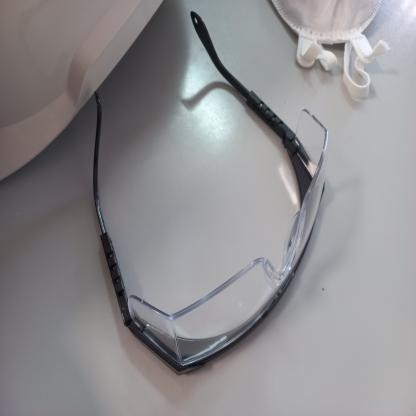goggles: (101, 48, 339, 378)
